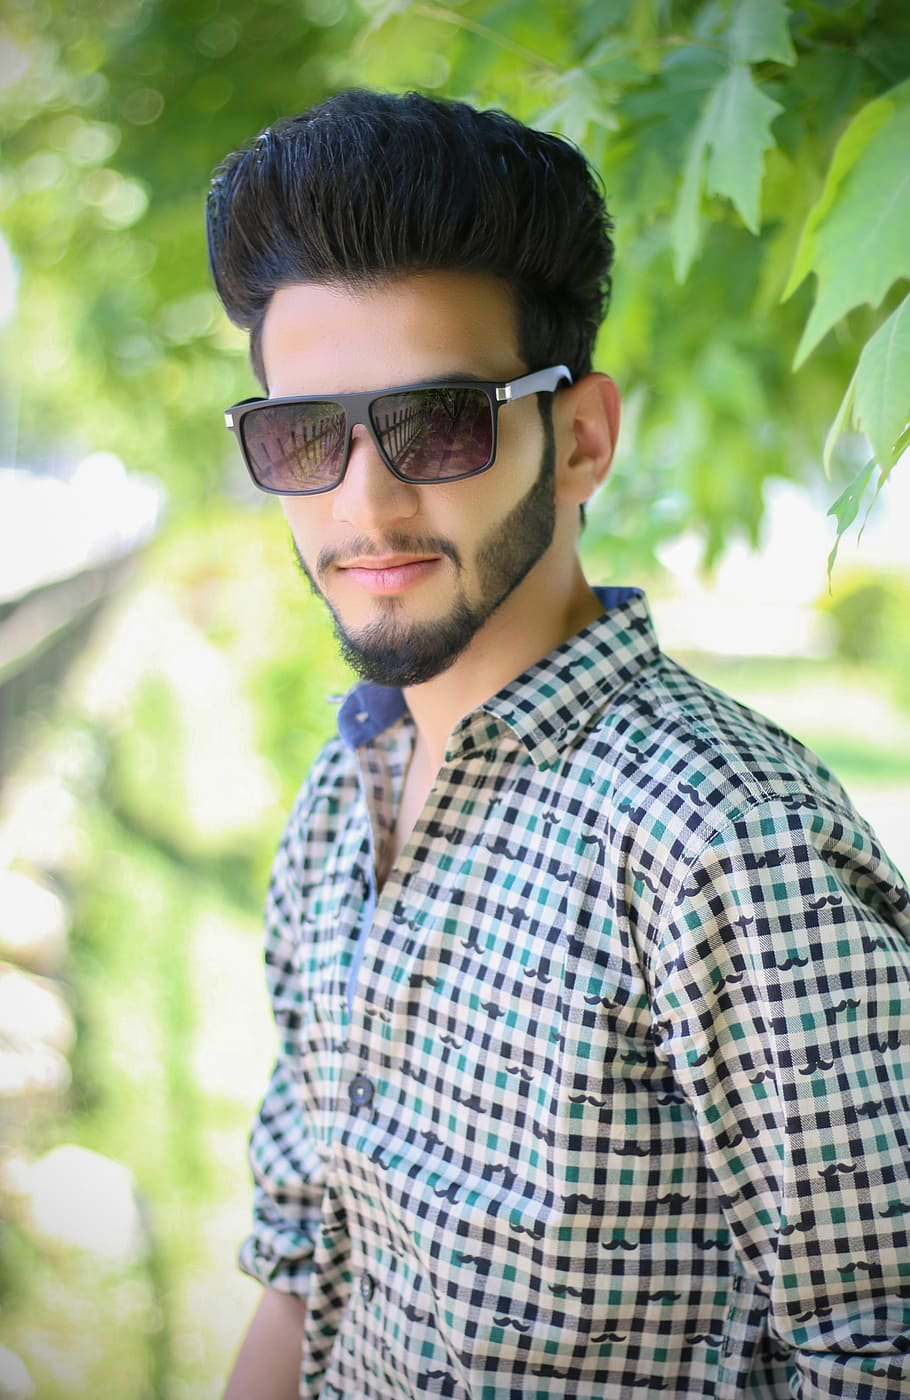noMask: (153, 102, 662, 711)
